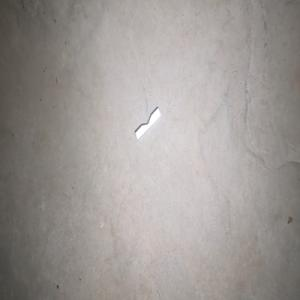ClampPart: (134, 106, 161, 140)
